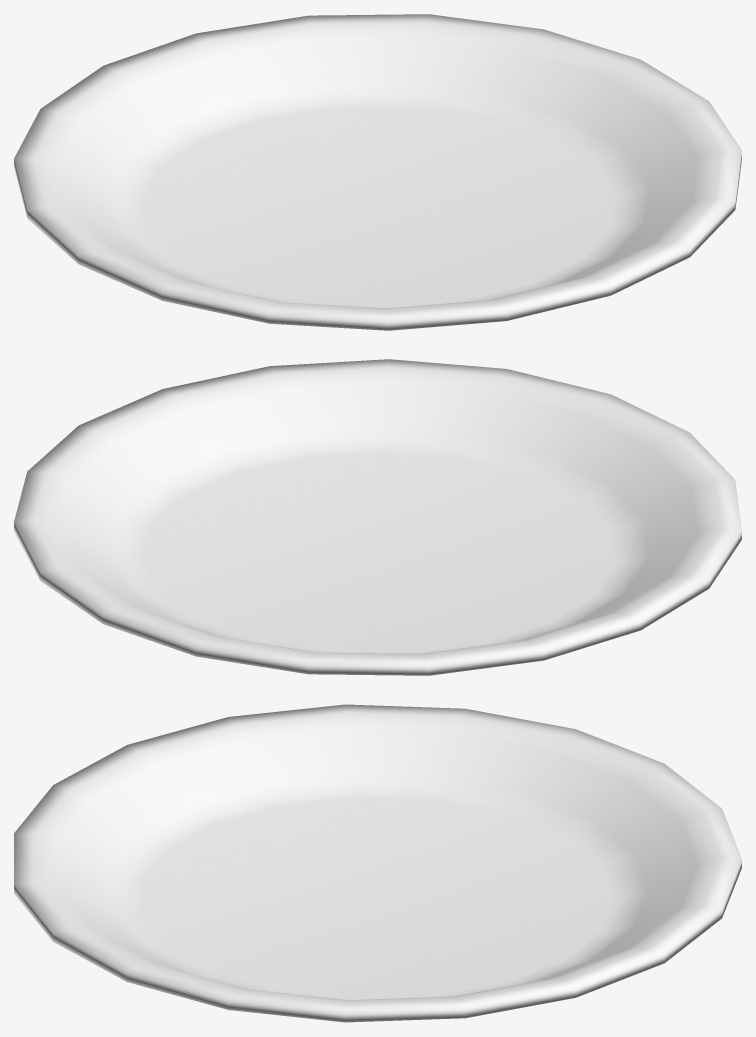
Rendered from mdl_Plate.fbx.
3 views of the same model, one above another, from view 1: azimuth 30°, elevation 25°; view 2: azimuth 150°, elevation 25°; view 3: azimuth 270°, elevation 25° (orthographic).
Visible parts, largest first — view 1: Circle; view 2: Circle; view 3: Circle.
Boxes of the visible parts, x1,y1,x2,y2 form: Circle: (14,14,741,330); Circle: (14,359,741,675); Circle: (14,704,741,1022).
Bounding box in the file's own units: 257 × 18.97 × 256.
